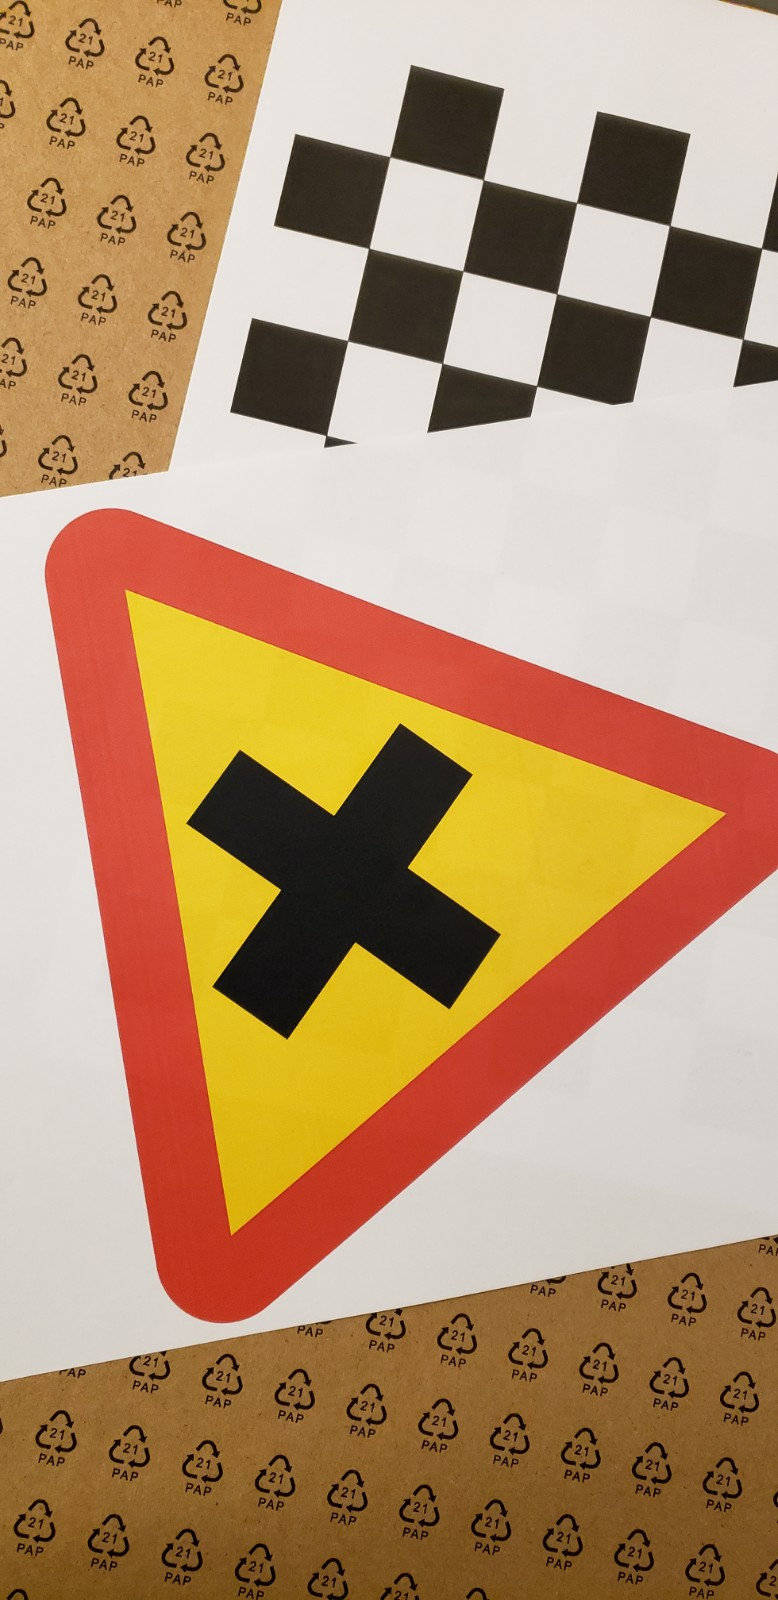junction: (40, 494, 766, 1343)
